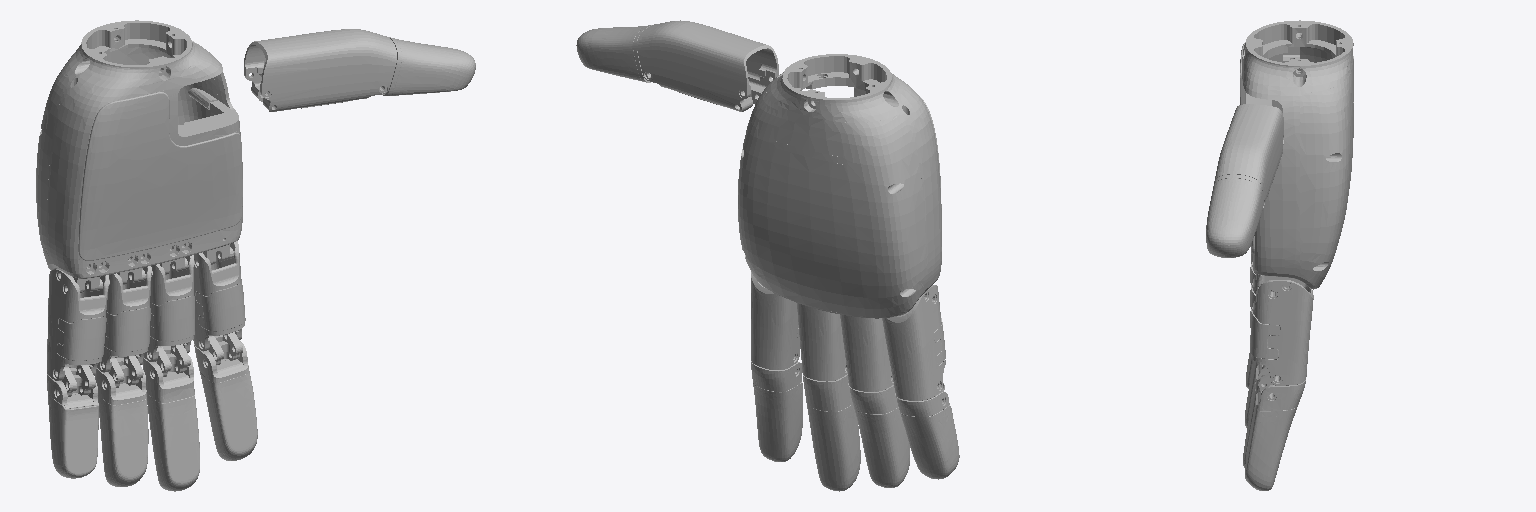
The robot description file, URDF, robot "fourier_left_hand_12dof":
<?xml version="1.0" encoding="utf-8"?>

<!-- 10162024-alpha-1 -->

<robot
  name="fourier_left_hand_12dof">
  <link
    name="L_hand_base_link">
    <inertial>
      <origin
        xyz="-0.0027 -0.009658 -0.044243"
        rpy="0 0 0" />
      <mass
        value="0.281" />
      <inertia
        ixx="0.000344"
        ixy="-3.26E-06"
        ixz="8.99E-06"
        iyy="0.000474"
        iyz="-1.063E-05"
        izz="0.000217" />
    </inertial>
    <visual>
      <origin
        xyz="0 0 0"
        rpy="0 0 0" />
      <geometry>
        <mesh
          filename="../meshes/fourier_hand_12dof/L_hand_base_link.STL" />
      </geometry>
      <material
        name="">
        <color
          rgba="0.75294 0.75294 0.75294 1" />
      </material>
    </visual>
    <collision>
      <origin
        xyz="0 0 0"
        rpy="0 0 0" />
      <geometry>
        <mesh
          filename="../meshes/fourier_hand_12dof/L_hand_base_link.STL" />
      </geometry>
    </collision>
  </link>
  <link
    name="L_thumb_proximal_yaw_link">
    <inertial>
      <origin
        xyz="0.010856 -0.001425 0.000443"
        rpy="0 0 0" />
      <mass
        value="0.04" />
      <inertia
        ixx="4.48E-06"
        ixy="7E-07"
        ixz="-7.4E-07"
        iyy="7.55E-06"
        iyz="6E-8"
        izz="6.88E-06" />
    </inertial>
    <visual>
      <origin
        xyz="0 0 0"
        rpy="0 0 0" />
      <geometry>
        <mesh
          filename="../meshes/fourier_hand_12dof/L_thumb_proximal_yaw_link.STL" />
      </geometry>
      <material
        name="">
        <color
          rgba="0.86667 0.86667 0.8902 1" />
      </material>
    </visual>
    <collision>
      <origin
        xyz="0 0 0"
        rpy="0 0 0" />
      <geometry>
        <mesh
          filename="../meshes/fourier_hand_12dof/L_thumb_proximal_yaw_link.STL" />
      </geometry>
    </collision>
  </link>
  <joint
    name="L_thumb_proximal_yaw_joint"
    type="revolute">
    <origin
      xyz="0.014 -0.012 -0.023196"
      rpy="0 0 0" />
    <parent
      link="L_hand_base_link" />
    <child
      link="L_thumb_proximal_yaw_link" />
    <axis
      xyz="0 0 1" />
    <limit
      lower="-1.4661"
      upper="0"
      effort="0"
      velocity="0" />
  </joint>
  <link
    name="L_thumb_proximal_pitch_link">
    <inertial>
      <origin
        xyz="0.026449 -0.000321 3.22E-06"
        rpy="0 0 0" />
      <mass
        value="0.0415" />
      <inertia
        ixx="5.76E-06"
        ixy="3.7e-7"
        ixz="0"
        iyy="1.33E-05"
        iyz="0"
        izz="1.39E-05" />
    </inertial>
    <visual>
      <origin
        xyz="0 0 0"
        rpy="0 0 0" />
      <geometry>
        <mesh
          filename="../meshes/fourier_hand_12dof/L_thumb_proximal_pitch_link.STL" />
      </geometry>
      <material
        name="">
        <color
          rgba="0.75294 0.75294 0.75294 1" />
      </material>
    </visual>
    <collision>
      <origin
        xyz="0 0 0"
        rpy="0 0 0" />
      <geometry>
        <mesh
          filename="../meshes/fourier_hand_12dof/L_thumb_proximal_pitch_link.STL" />
      </geometry>
    </collision>
  </link>
  <joint
    name="L_thumb_proximal_pitch_joint"
    type="revolute">
    <origin
      xyz="0.034322 -0.0054361 0.001"
      rpy="-1.5708 0 -0.15708" />
    <parent
      link="L_thumb_proximal_yaw_link" />
    <child
      link="L_thumb_proximal_pitch_link" />
    <axis
      xyz="0 0 1" />
    <limit
      lower="0"
      upper="1.274"
      effort="0"
      velocity="0" />
  </joint>
  <link
    name="L_thumb_distal_link">
    <inertial>
      <origin
        xyz="0.0186 -0.00514 1.569E-05"
        rpy="0 0 0" />
      <mass
        value="0.0198" />
      <inertia
        ixx="1.15E-06"
        ixy="-6E-8"
        ixz="0"
        iyy="3.43E-06"
        iyz="0"
        izz="3.24E-06" />
    </inertial>
    <visual>
      <origin
        xyz="0 0 0"
        rpy="0 0 0" />
      <geometry>
        <mesh
          filename="../meshes/fourier_hand_12dof/L_thumb_distal_link.STL" />
      </geometry>
      <material
        name="">
        <color
          rgba="0.75294 0.75294 0.75294 1" />
      </material>
    </visual>
    <collision>
      <origin
        xyz="0 0 0"
        rpy="0 0 0" />
      <geometry>
        <mesh
          filename="../meshes/fourier_hand_12dof/L_thumb_distal_link.STL" />
      </geometry>
    </collision>
  </link>
  <joint
    name="L_thumb_distal_joint"
    type="revolute">
    <origin
      xyz="0.05154 0.0069005 0"
      rpy="0 0 0.10654" />
    <parent
      link="L_thumb_proximal_pitch_link" />
    <child
      link="L_thumb_distal_link" />
    <axis
      xyz="0 0 1" />
    <limit
      lower="0"
      upper="1.3614"
      effort="0"
      velocity="0" />
  </joint>

  <link name="L_thumb_tip_link">
    <visual>
      <origin
        xyz="0 0 0"
        rpy="0 0 0" />
      <geometry>
        <sphere radius="0.005" />
      </geometry>
      <material name="yellow">
        <color rgba="0.9 1 0 1" />
      </material>
    </visual>
  </link>
  <joint name="L_thumb_tip_joint" type="fixed">
    <parent link="L_thumb_distal_link" />
    <child link="L_thumb_tip_link" />
    <origin rpy="0 0 0" xyz="0.035 -0.001 0" />
  </joint>


  <link
    name="L_index_metacarpal_link">
    <inertial>
      <origin
        xyz="-0.00912 0.00394 0"
        rpy="0 0 0" />
      <mass
        value="0.0321" />
      <inertia
        ixx="1.09E-06"
        ixy="1.85E-06"
        ixz="0"
        iyy="7.7E-06"
        iyz="0"
        izz="7.94E-06" />
    </inertial>
    <visual>
      <origin
        xyz="0 0 0"
        rpy="0 0 0" />
      <geometry>
        <mesh
          filename="../meshes/fourier_hand_12dof/L_index_metacarpal_link.STL" />
      </geometry>
      <material
        name="">
        <color
          rgba="0.75294 0.75294 0.75294 1" />
      </material>
    </visual>
    <collision>
      <origin
        xyz="0 0 0"
        rpy="0 0 0" />
      <geometry>
        <mesh
          filename="../meshes/fourier_hand_12dof/L_index_metacarpal_link.STL" />
      </geometry>
    </collision>
  </link>
  <joint
    name="L_index_metacarpal_joint"
    type="revolute">
    <origin
      xyz="0.0305 -0.0118 -0.088496"
      rpy="0 1.4946 0" />
    <parent
      link="L_hand_base_link" />
    <child
      link="L_index_metacarpal_link" />
    <axis
      xyz="0 1 0" />
    <limit
      lower="-0.2618"
      upper="0.0524"
      effort="0"
      velocity="0" />
  </joint>
  <link
    name="L_index_proximal_link">
    <inertial>
      <origin
        xyz="0.01736 0.0045 0"
        rpy="0 0 0" />
      <mass
        value="0.0358" />
      <inertia
        ixx="3.91E-06"
        ixy="-2.7E-7"
        ixz="0"
        iyy="7.43E-06"
        iyz="0"
        izz="7.77E-06" />
    </inertial>
    <visual>
      <origin
        xyz="0 0 0"
        rpy="0 0 0" />
      <geometry>
        <mesh
          filename="../meshes/fourier_hand_12dof/L_index_proximal_link.STL" />
      </geometry>
      <material
        name="">
        <color
          rgba="0.75294 0.75294 0.75294 1" />
      </material>
    </visual>
    <collision>
      <origin
        xyz="0 0 0"
        rpy="0 0 0" />
      <geometry>
        <mesh
          filename="../meshes/fourier_hand_12dof/L_index_proximal_link.STL" />
      </geometry>
    </collision>
  </link>
  <joint
    name="L_index_proximal_joint"
    type="revolute">
    <origin
      xyz="0.012 0.0005 0"
      rpy="0 0 0" />
    <parent
      link="L_index_metacarpal_link" />
    <child
      link="L_index_proximal_link" />
    <axis
      xyz="0 0 1" />
    <limit
      lower="-1.5185"
      upper="0"
      effort="0"
      velocity="0" />
  </joint>
  <link
    name="L_index_intermediate_link">
    <inertial>
      <origin
        xyz="0.02243 0.002908 1.624e-5"
        rpy="0 0 0" />
      <mass
        value="0.0199" />
      <inertia
        ixx="8.4E-7"
        ixy="4E-8"
        ixz="1E-8"
        iyy="4.82E-6"
        iyz="0"
        izz="4.72E-6" />
    </inertial>
    <visual>
      <origin
        xyz="0 0 0"
        rpy="0 0 0" />
      <geometry>
        <mesh
          filename="../meshes/fourier_hand_12dof/L_index_intermediate_link.STL" />
      </geometry>
      <material
        name="">
        <color
          rgba="0.75294 0.75294 0.75294 1" />
      </material>
    </visual>
    <collision>
      <origin
        xyz="0 0 0"
        rpy="0 0 0" />
      <geometry>
        <mesh
          filename="../meshes/fourier_hand_12dof/L_index_intermediate_link.STL" />
      </geometry>
    </collision>
  </link>
  <joint
    name="L_index_intermediate_joint"
    type="revolute">
    <origin
      xyz="0.038948 0.0020202 0"
      rpy="0 0 -0.19585" />
    <parent
      link="L_index_proximal_link" />
    <child
      link="L_index_intermediate_link" />
    <axis
      xyz="0 0 1" />
    <limit
      lower="-1.5708"
      upper="0"
      effort="0"
      velocity="0" />
  </joint>

  <link name="L_index_tip_link">
    <visual>
      <origin
        xyz="0 0 0"
        rpy="0 0 0" />
      <geometry>
        <sphere radius="0.005" />
      </geometry>
      <material name="yellow">
        <color rgba="0.9 1 0 1" />
      </material>
    </visual>
  </link>
  <joint name="L_index_tip_joint" type="fixed">
    <parent link="L_index_intermediate_link" />
    <child link="L_index_tip_link" />
    <origin rpy="0 0 0" xyz="0.047 0.001 0" />
  </joint>


  <link name="L_middle_tip_link">
    <visual>
      <origin
        xyz="0 0 0"
        rpy="0 0 0" />
      <geometry>
        <sphere radius="0.005" />
      </geometry>
      <material name="yellow">
        <color rgba="0.9 1 0 1" />
      </material>
    </visual>
  </link>
  <joint name="L_middle_tip_joint" type="fixed">
    <parent link="L_middle_intermediate_link" />
    <child link="L_middle_tip_link" />
    <origin rpy="0 0 0" xyz="0.055 0.0012 0" />
  </joint>


  <link
    name="L_middle_proximal_link">
    <inertial>
      <origin
        xyz="0.017361 0.0045 0"
        rpy="0 0 0" />
      <mass
        value="0.0358" />
      <inertia
        ixx="3.91E-06"
        ixy="-2.7E-7"
        ixz="0"
        iyy="7.43E-06"
        iyz="0"
        izz="7.77E-06" />
    </inertial>
    <visual>
      <origin
        xyz="0 0 0"
        rpy="0 0 0" />
      <geometry>
        <mesh
          filename="../meshes/fourier_hand_12dof/L_middle_proximal_link.STL" />
      </geometry>
      <material
        name="">
        <color
          rgba="0.75294 0.75294 0.75294 1" />
      </material>
    </visual>
    <collision>
      <origin
        xyz="0 0 0"
        rpy="0 0 0" />
      <geometry>
        <mesh
          filename="../meshes/fourier_hand_12dof/L_middle_proximal_link.STL" />
      </geometry>
    </collision>
  </link>
  <joint
    name="L_middle_proximal_joint"
    type="revolute">
    <origin
      xyz="0.0095 -0.0113 -0.10005"
      rpy="0 1.5708 0" />
    <parent
      link="L_hand_base_link" />
    <child
      link="L_middle_proximal_link" />
    <axis
      xyz="0 0 1" />
    <limit
      lower="-1.5185"
      upper="0"
      effort="0"
      velocity="0" />
  </joint>
  <link
    name="L_middle_intermediate_link">
    <inertial>
      <origin
        xyz="0.0247 0.00323 1.39E-5"
        rpy="0 0 0" />
      <mass
        value="0.0234" />
      <inertia
        ixx="1.01E-6"
        ixy="-4E-8"
        ixz="1E-8"
        iyy="6.94E-6"
        iyz="0"
        izz="6.82E-6" />
    </inertial>
    <visual>
      <origin
        xyz="0 0 0"
        rpy="0 0 0" />
      <geometry>
        <mesh
          filename="../meshes/fourier_hand_12dof/L_middle_intermediate_link.STL" />
      </geometry>
      <material
        name="">
        <color
          rgba="0.75294 0.75294 0.75294 1" />
      </material>
    </visual>
    <collision>
      <origin
        xyz="0 0 0"
        rpy="0 0 0" />
      <geometry>
        <mesh
          filename="../meshes/fourier_hand_12dof/L_middle_intermediate_link.STL" />
      </geometry>
    </collision>
  </link>
  <joint
    name="L_middle_intermediate_joint"
    type="revolute">
    <origin
      xyz="0.038948 0.0020202 0"
      rpy="0 0 -0.19218" />
    <parent
      link="L_middle_proximal_link" />
    <child
      link="L_middle_intermediate_link" />
    <axis
      xyz="0 0 1" />
    <limit
      lower="-1.5708"
      upper="0"
      effort="0"
      velocity="0" />
  </joint>
  <link
    name="L_ring_proximal_link">
    <inertial>
      <origin
        xyz="0.017361 0.0045 0"
        rpy="0 0 0" />
      <mass
        value="0.035778" />
      <inertia
        ixx="3.91E-06"
        ixy="-2.7E-7"
        ixz="0"
        iyy="7.4E-06"
        iyz="0"
        izz="7.7E-06" />
    </inertial>
    <visual>
      <origin
        xyz="0 0 0"
        rpy="0 0 0" />
      <geometry>
        <mesh
          filename="../meshes/fourier_hand_12dof/L_ring_proximal_link.STL" />
      </geometry>
      <material
        name="">
        <color
          rgba="0.75294 0.75294 0.75294 1" />
      </material>
    </visual>
    <collision>
      <origin
        xyz="0 0 0"
        rpy="0 0 0" />
      <geometry>
        <mesh
          filename="../meshes/fourier_hand_12dof/L_ring_proximal_link.STL" />
      </geometry>
    </collision>
  </link>
  <joint
    name="L_ring_proximal_joint"
    type="revolute">
    <origin
      xyz="-0.010987 -0.0113 -0.10003"
      rpy="-3.1416 1.5184 -3.1416" />
    <parent
      link="L_hand_base_link" />
    <child
      link="L_ring_proximal_link" />
    <axis
      xyz="0 0 1" />
    <limit
      lower="-1.5185"
      upper="0"
      effort="0"
      velocity="0" />
  </joint>
  <link
    name="L_ring_intermediate_link">
    <inertial>
      <origin
        xyz="0.02243 0.002908 1.624E-5"
        rpy="0 0 0" />
      <mass
        value="0.0199" />
      <inertia
        ixx="8.4E-7"
        ixy="4E-8"
        ixz="1E-8"
        iyy="4.82E-6"
        iyz="0"
        izz="4.72E-6" />
    </inertial>
    <visual>
      <origin
        xyz="0 0 0"
        rpy="0 0 0" />
      <geometry>
        <mesh
          filename="../meshes/fourier_hand_12dof/L_ring_intermediate_link.STL" />
      </geometry>
      <material
        name="">
        <color
          rgba="0.75294 0.75294 0.75294 1" />
      </material>
    </visual>
    <collision>
      <origin
        xyz="0 0 0"
        rpy="0 0 0" />
      <geometry>
        <mesh
          filename="../meshes/fourier_hand_12dof/L_ring_intermediate_link.STL" />
      </geometry>
    </collision>
  </link>
  <joint
    name="L_ring_intermediate_joint"
    type="revolute">
    <origin
      xyz="0.038948 0.0020202 0"
      rpy="0 0 -0.19585" />
    <parent
      link="L_ring_proximal_link" />
    <child
      link="L_ring_intermediate_link" />
    <axis
      xyz="0 0 1" />
    <limit
      lower="-1.5708"
      upper="0"
      effort="0"
      velocity="0" />
  </joint>

  <link name="L_ring_tip_link">
    <visual>
      <origin
        xyz="0 0 0"
        rpy="0 0 0" />
      <geometry>
        <sphere radius="0.005" />
      </geometry>
      <material name="green">
        <color rgba="0.9 1 0 1" />
      </material>
    </visual>
  </link>
  <joint name="L_ring_tip_joint" type="fixed">
    <parent link="L_ring_intermediate_link" />
    <child link="L_ring_tip_link" />
    <origin rpy="0 0 0" xyz="0.045 0.001 0" />
  </joint>


  <link
    name="L_pinky_proximal_link">
    <inertial>
      <origin
        xyz="0.017361 0.0045 0"
        rpy="0 0 0" />
      <mass
        value="0.0358" />
      <inertia
        ixx="3.91E-06"
        ixy="-2.7E-7"
        ixz="0"
        iyy="7.4E-06"
        iyz="0"
        izz="7.77E-06" />
    </inertial>
    <visual>
      <origin
        xyz="0 0 0"
        rpy="0 0 0" />
      <geometry>
        <mesh
          filename="../meshes/fourier_hand_12dof/L_pinky_proximal_link.STL" />
      </geometry>
      <material
        name="">
        <color
          rgba="0.75294 0.75294 0.75294 1" />
      </material>
    </visual>
    <collision>
      <origin
        xyz="0 0 0"
        rpy="0 0 0" />
      <geometry>
        <mesh
          filename="../meshes/fourier_hand_12dof/L_pinky_proximal_link.STL" />
      </geometry>
    </collision>
  </link>
  <joint
    name="L_pinky_proximal_joint"
    type="revolute">
    <origin
      xyz="-0.031472 -0.0113 -0.099245"
      rpy="-3.1416 1.4661 -3.1416" />
    <parent
      link="L_hand_base_link" />
    <child
      link="L_pinky_proximal_link" />
    <axis
      xyz="0 0 1" />
    <limit
      lower="-1.5185"
      upper="0"
      effort="0"
      velocity="0" />
  </joint>
  <link
    name="L_pinky_intermediate_link">
    <inertial>
      <origin
        xyz="0.01875 0.00296 5.23E-6"
        rpy="0 0 0" />
      <mass
        value="0.00812" />
      <inertia
        ixx="6.7E-7"
        ixy="5E-8"
        ixz="1E-8"
        iyy="2.69E-06"
        iyz="0"
        izz="2.6E-06" />
    </inertial>
    <visual>
      <origin
        xyz="0 0 0"
        rpy="0 0 0" />
      <geometry>
        <mesh
          filename="../meshes/fourier_hand_12dof/L_pinky_intermediate_link.STL" />
      </geometry>
      <material
        name="">
        <color
          rgba="0.75294 0.75294 0.75294 1" />
      </material>
    </visual>
    <collision>
      <origin
        xyz="0 0 0"
        rpy="0 0 0" />
      <geometry>
        <mesh
          filename="../meshes/fourier_hand_12dof/L_pinky_intermediate_link.STL" />
      </geometry>
    </collision>
  </link>
  <joint
    name="L_pinky_intermediate_joint"
    type="revolute">
    <origin
      xyz="0.038948 0.0020202 0"
      rpy="0 -0.0013299 -0.20067" />
    <parent
      link="L_pinky_proximal_link" />
    <child
      link="L_pinky_intermediate_link" />
    <axis
      xyz="0 0 1" />
    <limit
      lower="-1.5708"
      upper="0"
      effort="0"
      velocity="0" />
  </joint>

  <link name="L_pinky_tip_link">
    <visual>
      <origin
        xyz="0 0 0"
        rpy="0 0 0" />
      <geometry>
        <sphere radius="0.005" />
      </geometry>
      <material name="yellow">
        <color rgba="0.9 1 0 1" />
      </material>
    </visual>
  </link>
  <joint name="L_pinky_tip_joint" type="fixed">
    <parent link="L_pinky_intermediate_link" />
    <child link="L_pinky_tip_link" />
    <origin rpy="0 0 0" xyz="0.038 0.001 0" />
  </joint>

</robot>

--- Facts derived from the render (not from the file) ---
The picture shows the robot from 3 angles, left to right: view 1: azimuth 30°, elevation 25°; view 2: azimuth 150°, elevation 25°; view 3: azimuth 270°, elevation 25°; orthographic projection.
Model fourier_left_hand_12dof with 18 links and 17 joints (12 revolute, 5 fixed), rooted at L_hand_base_link, posed every joint at zero.
Links seen in each view (by area): view 1: L_hand_base_link, L_thumb_proximal_pitch_link, L_middle_intermediate_link, L_ring_intermediate_link, L_index_intermediate_link, L_pinky_proximal_link, L_pinky_intermediate_link, L_index_proximal_link, L_thumb_distal_link, L_ring_proximal_link, L_middle_proximal_link; view 2: L_hand_base_link, L_thumb_proximal_pitch_link, L_pinky_proximal_link, L_middle_intermediate_link, L_index_intermediate_link, L_ring_intermediate_link, L_pinky_intermediate_link, L_index_proximal_link, L_ring_proximal_link, L_middle_proximal_link, L_thumb_distal_link; view 3: L_hand_base_link, L_index_proximal_link, L_thumb_proximal_pitch_link, L_index_intermediate_link, L_thumb_distal_link.
Link boxes in pixels (left/top/right/bottom): L_hand_base_link: left=36, top=20, right=242, bottom=292; L_thumb_proximal_pitch_link: left=244, top=29, right=396, bottom=111; L_middle_intermediate_link: left=142, top=344, right=199, bottom=491; L_ring_intermediate_link: left=95, top=356, right=148, bottom=486; L_index_intermediate_link: left=194, top=332, right=257, bottom=460; L_pinky_proximal_link: left=47, top=269, right=108, bottom=380; L_pinky_intermediate_link: left=47, top=365, right=98, bottom=478; L_index_proximal_link: left=193, top=241, right=245, bottom=351; L_thumb_distal_link: left=380, top=37, right=475, bottom=95; L_ring_proximal_link: left=97, top=266, right=151, bottom=372; L_middle_proximal_link: left=144, top=255, right=194, bottom=361; L_hand_base_link: left=738, top=54, right=941, bottom=318; L_thumb_proximal_pitch_link: left=637, top=20, right=778, bottom=111; L_pinky_proximal_link: left=882, top=285, right=945, bottom=400; L_middle_intermediate_link: left=803, top=374, right=860, bottom=491; L_index_intermediate_link: left=751, top=355, right=802, bottom=461; L_ring_intermediate_link: left=850, top=385, right=909, bottom=487; L_pinky_intermediate_link: left=896, top=383, right=959, bottom=479; L_index_proximal_link: left=751, top=272, right=799, bottom=369; L_ring_proximal_link: left=840, top=315, right=893, bottom=391; L_middle_proximal_link: left=797, top=303, right=847, bottom=381; L_thumb_distal_link: left=576, top=24, right=654, bottom=82; L_hand_base_link: left=1240, top=20, right=1353, bottom=289; L_index_proximal_link: left=1250, top=275, right=1313, bottom=385; L_thumb_proximal_pitch_link: left=1214, top=104, right=1283, bottom=207; L_index_intermediate_link: left=1245, top=367, right=1305, bottom=490; L_thumb_distal_link: left=1206, top=174, right=1262, bottom=257.
Bounding box of the posed robot: 0.1908 × 0.0634 × 0.2001 m (x, y, z).
Meshes: 13 distinct files referenced, 12 mesh visuals loaded (12 binary STL); not drawn: 1 (reference not matched to a file when rendering).